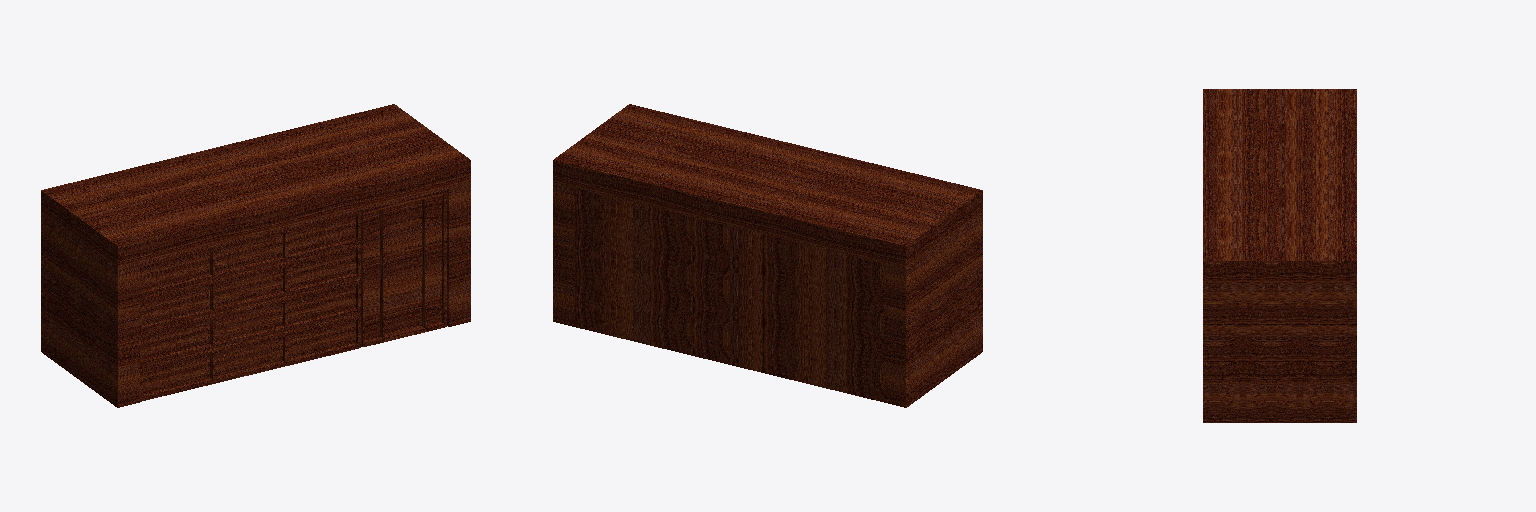
3 views of the same model, side by side, from view 1: azimuth 30°, elevation 25°; view 2: azimuth 150°, elevation 25°; view 3: azimuth 270°, elevation 25° (orthographic).
Visible parts, largest first — view 1: Line35_1, Box57_10, Box53_3, Box56_9, Box55_7, Box54_5, Line40_11, Line37_4, Line38_6, Line39_8, Line36_2; view 2: Line35_1, Box58_12; view 3: Line35_1.
Boxes of the visible parts, x1,y1,x2,y2 form: Line35_1: [41, 104, 470, 407]; Box57_10: [359, 195, 441, 339]; Box53_3: [142, 216, 355, 290]; Box56_9: [142, 320, 355, 394]; Box55_7: [142, 285, 355, 359]; Box54_5: [142, 251, 355, 324]; Line40_11: [360, 189, 446, 346]; Line37_4: [140, 245, 360, 332]; Line38_6: [140, 279, 360, 366]; Line39_8: [140, 314, 360, 401]; Line36_2: [140, 210, 360, 297]; Line35_1: [553, 104, 982, 407]; Box58_12: [575, 189, 883, 401]; Line35_1: [1203, 89, 1356, 422].
Size of the model in its own units: 160 by 70 by 60.
1 materials, 1 textured.